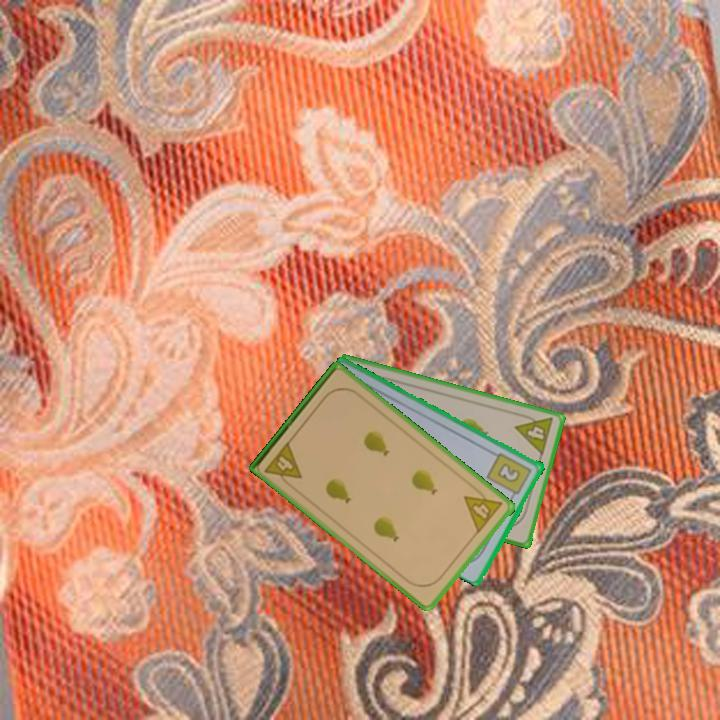2b: (484, 449, 535, 502)
4p: (461, 482, 506, 536), (261, 438, 305, 491), (512, 409, 556, 458)
